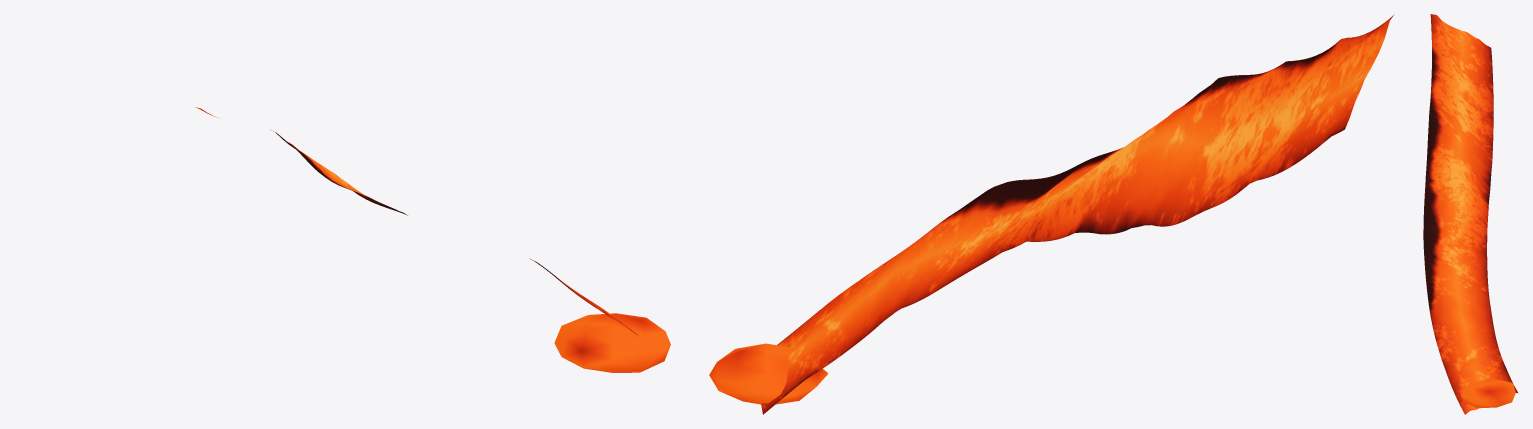
Rendered from flow_1_4.glb.
The picture shows the model from 3 angles, left to right: view 1: azimuth 30°, elevation 25°; view 2: azimuth 150°, elevation 25°; view 3: azimuth 270°, elevation 25°; orthographic projection. The views are drawn at different scales.
Size of the model in its own units: 15.64 by 11.39 by 3.97.
